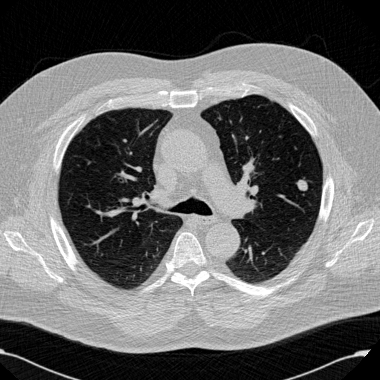nodule: (296, 178, 308, 190)
